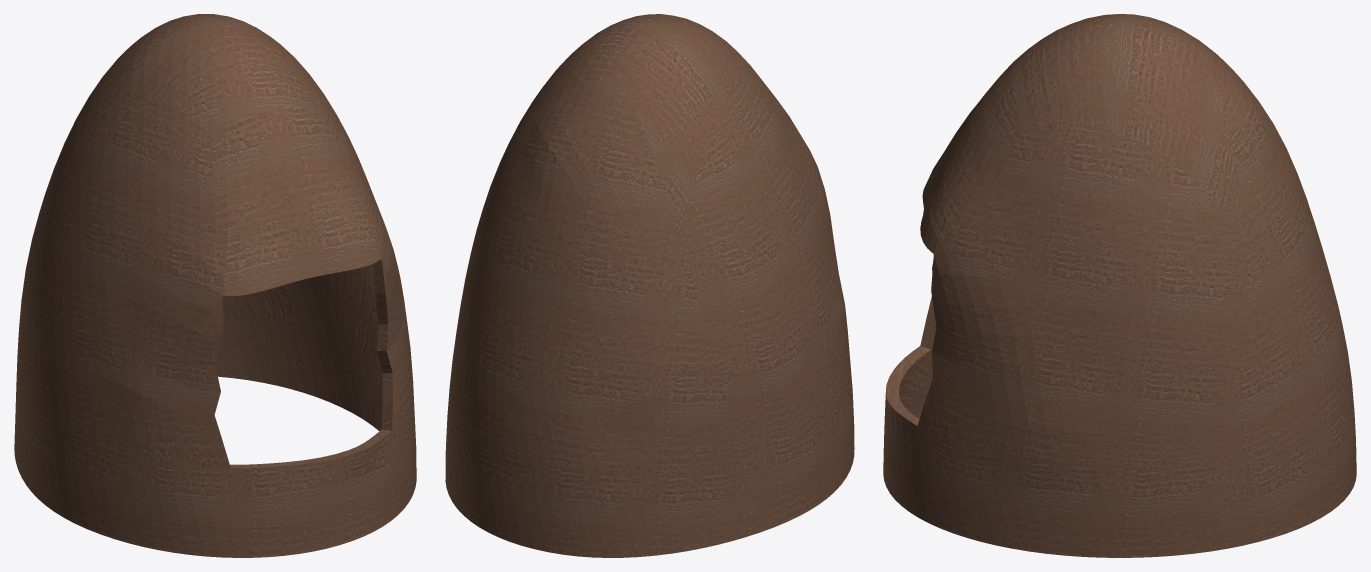
File: Kiln.gltf
3 renders of one model, left to right at view 1: azimuth 30°, elevation 25°; view 2: azimuth 150°, elevation 25°; view 3: azimuth 270°, elevation 25°, orthographic. The views are drawn at different scales.
Visible parts, largest first — view 1: Kiln; view 2: Kiln; view 3: Kiln.
Boxes of the visible parts, <box> form: Kiln: <box>14,14,416,557</box>; Kiln: <box>445,14,854,557</box>; Kiln: <box>883,14,1356,557</box>.
Bounding box in the file's own units: 1.99 × 2.49 × 2.37.
Materials: 1 (1 with a texture image).
